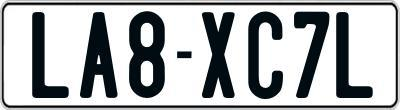7: (292, 10, 330, 100)
8: (129, 10, 165, 101)
A: (78, 12, 120, 99)
C: (245, 12, 281, 105)
L: (30, 9, 72, 98), (334, 12, 374, 101)
X: (199, 10, 234, 98)
